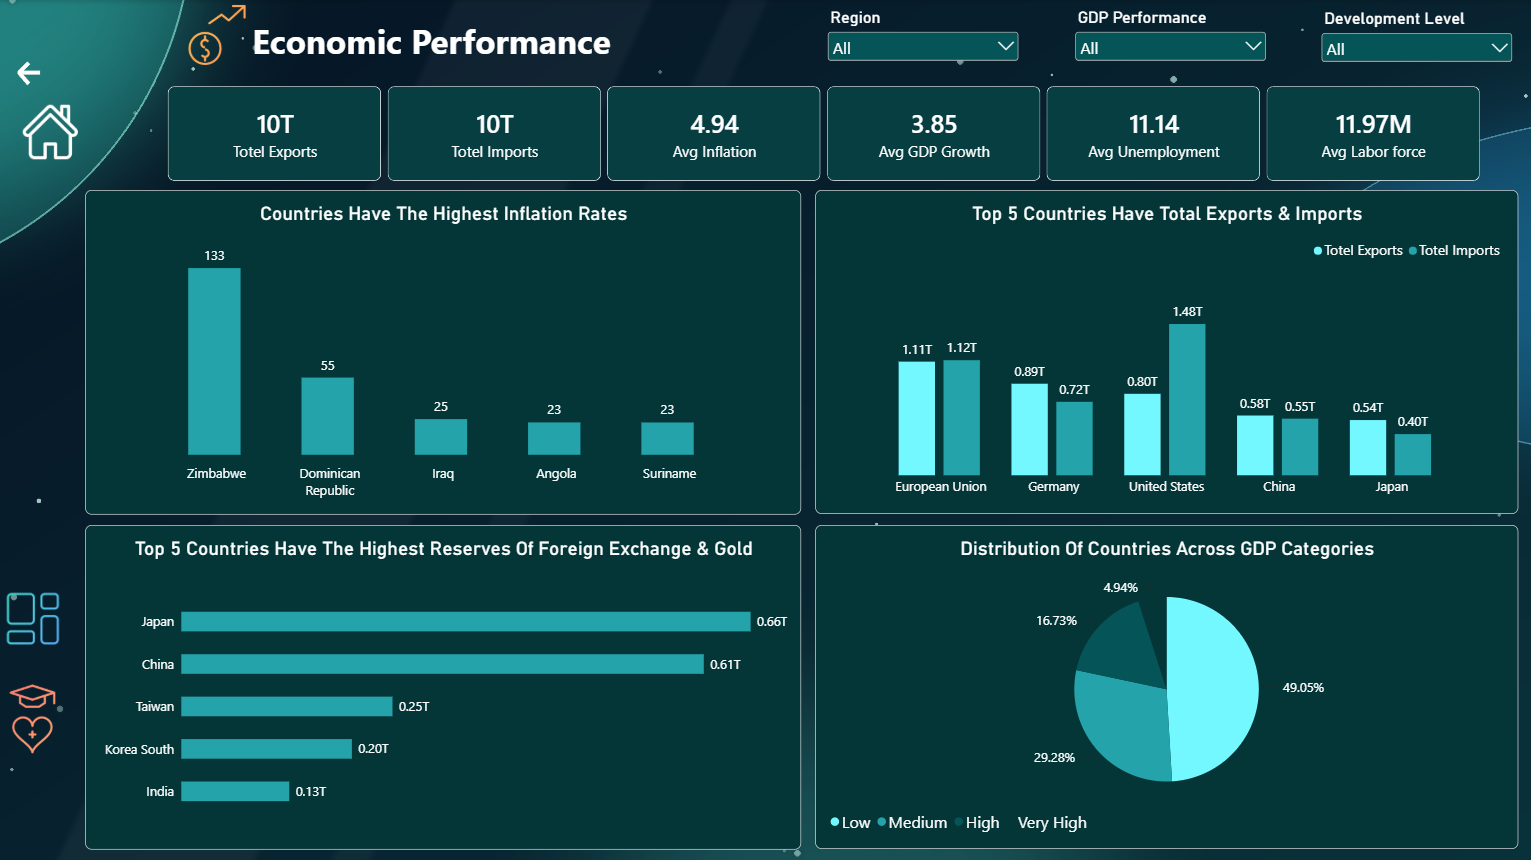

What the dashboard file says about the page in this screenshot:
{"tool":"powerbi","page":{"name":"Economic Performance","canvas":[1920,1080],"ordinal":3},"visuals":[{"type":"image","box":[0,0,1920.4,1079.7],"z":0},{"type":"image","box":[10.9,699.9,74.8,143.4],"z":1000},{"type":"image","box":[0,812.5,96.2,168.9],"z":2000},{"type":"shape","box":[284.4,8.6,523.8,85.5],"z":4000},{"type":"slicer","fields":{"Values":["Dim_Country.Region"]},"box":[1035.2,9.5,247.7,76.7],"z":5000},{"type":"slicer","fields":{"Values":["Dim_Country.GDP Performance"]},"box":[1343,8.6,247.7,76.7],"z":6000},{"type":"slicer","fields":{"Values":["Dim_Country.Development Level"]},"box":[1650.9,10.4,247.7,76.7],"z":7000},{"type":"cardVisual","fields":{"Data":["-measures.Totel Exports","-measures.Totel Imports","-measures.Avg Inflation","-measures.Avg GDP Growth","-measures.Avg Unemployment","-measures.Avg Labor force"]},"box":[215.9,106.9,1637.2,118.9],"z":8000},{"type":"image","box":[36.2,111.6,68.4,104.5],"z":9000},{"type":"clusteredColumnChart","title":"Countries Have The Highest Inflation Rates","fields":{"Category":["Dim_Country.Country"],"Y":["-measures.Avg Inflation"]},"box":[113.8,236.9,893,405],"z":10000},{"type":"clusteredColumnChart","title":"Top 5 Countries Have Total Exports & Imports","fields":{"Category":["Dim_Country.Country"],"Y":["-measures.Totel Exports","-measures.Totel Imports"]},"box":[1024.1,237.3,876.6,404.1],"z":11000},{"type":"actionButton","box":[10.9,72,66.6,39.6],"z":12000},{"type":"clusteredBarChart","title":"Top 5 Countries Have The Highest  Reserves Of Foreign Exchange & Gold","fields":{"Category":["Dim_Country.Country"],"Y":["Sum(Trade_Finance.Reserves of foreign exchange & gold)"]},"box":[113.3,654.3,893,405],"z":14000},{"type":"image","box":[235.2,0,85.5,87.7],"z":14001},{"type":"pieChart","title":"Distribution Of Countries Across GDP Categories","fields":{"Category":["Dim_Country.GDP Performance"],"Y":["CountNonNull(Dim_Country.Country)"]},"box":[1024.1,654.3,876.6,404.1],"z":14002}]}

Visuals, with their boxes in screenshot pixels (x1, y1, x2, y2), scaled from the page's 1920x1080 canvas onto the 1531x860 screenshot:
image: {"left": 0, "top": 0, "right": 1530, "bottom": 859}
image: {"left": 9, "top": 557, "right": 68, "bottom": 672}
image: {"left": 0, "top": 647, "right": 77, "bottom": 781}
shape: {"left": 227, "top": 7, "right": 644, "bottom": 75}
slicer - Dim_Country.Region: {"left": 825, "top": 8, "right": 1023, "bottom": 69}
slicer - Dim_Country.GDP Performance: {"left": 1071, "top": 7, "right": 1268, "bottom": 68}
slicer - Dim_Country.Development Level: {"left": 1316, "top": 8, "right": 1514, "bottom": 69}
cardVisual - -measures.Totel Exports x -measures.Totel Imports: {"left": 172, "top": 85, "right": 1478, "bottom": 180}
image: {"left": 29, "top": 89, "right": 83, "bottom": 172}
"Countries Have The Highest Inflation Rates" clusteredColumnChart: {"left": 91, "top": 189, "right": 803, "bottom": 511}
"Top 5 Countries Have Total Exports & Imports" clusteredColumnChart: {"left": 817, "top": 189, "right": 1516, "bottom": 511}
actionButton: {"left": 9, "top": 57, "right": 62, "bottom": 89}
"Top 5 Countries Have The Highest  Reserves Of Foreign Exchange & Gold" clusteredBarChart: {"left": 90, "top": 521, "right": 802, "bottom": 844}
image: {"left": 188, "top": 0, "right": 256, "bottom": 70}
"Distribution Of Countries Across GDP Categories" pieChart: {"left": 817, "top": 521, "right": 1516, "bottom": 843}
